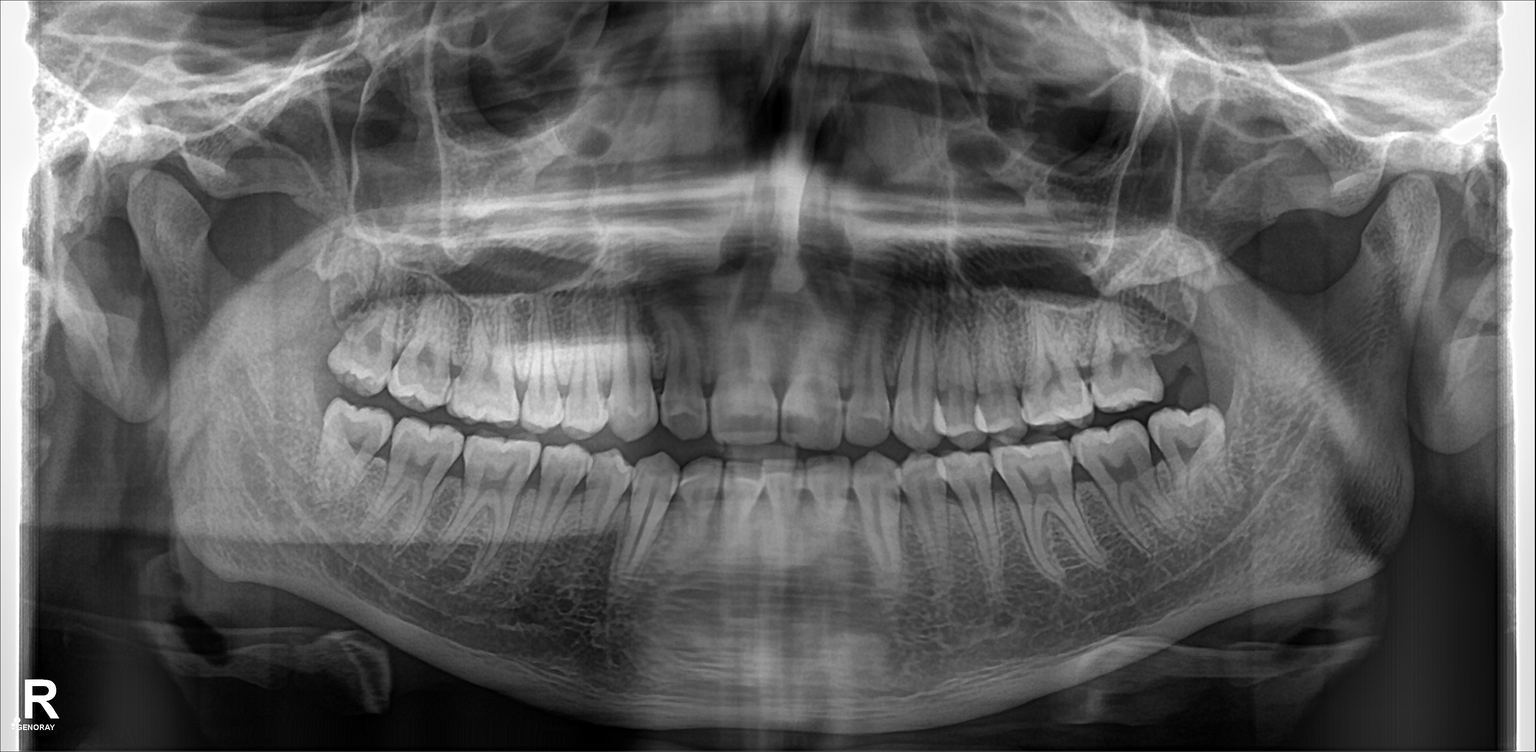Impacted Third Molar: (318, 411, 393, 500)
Missing Tooth: (1143, 305, 1207, 398)
